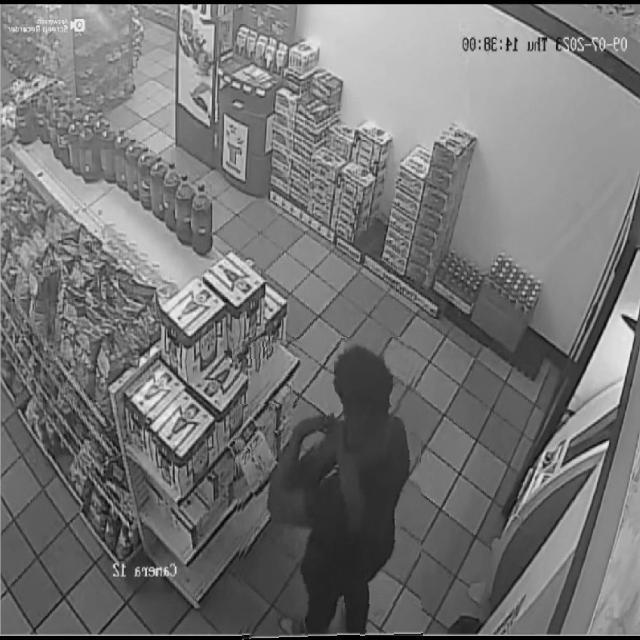normal: (235, 337, 421, 640)
